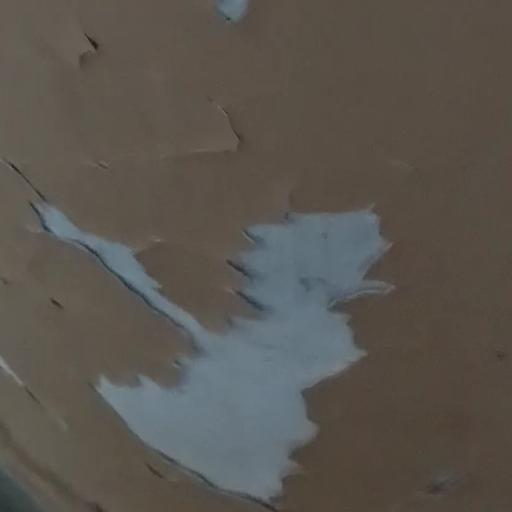peeling: (11, 138, 410, 512), (36, 23, 127, 64), (176, 0, 270, 32)
